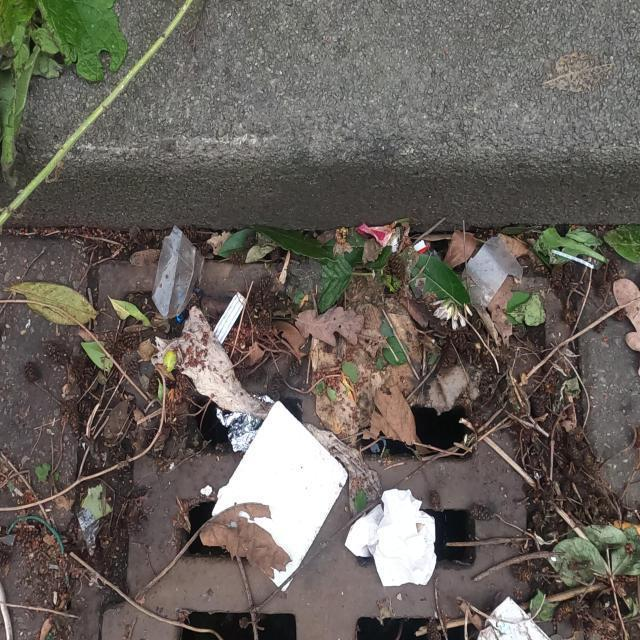Paper: (342, 484, 436, 588)
